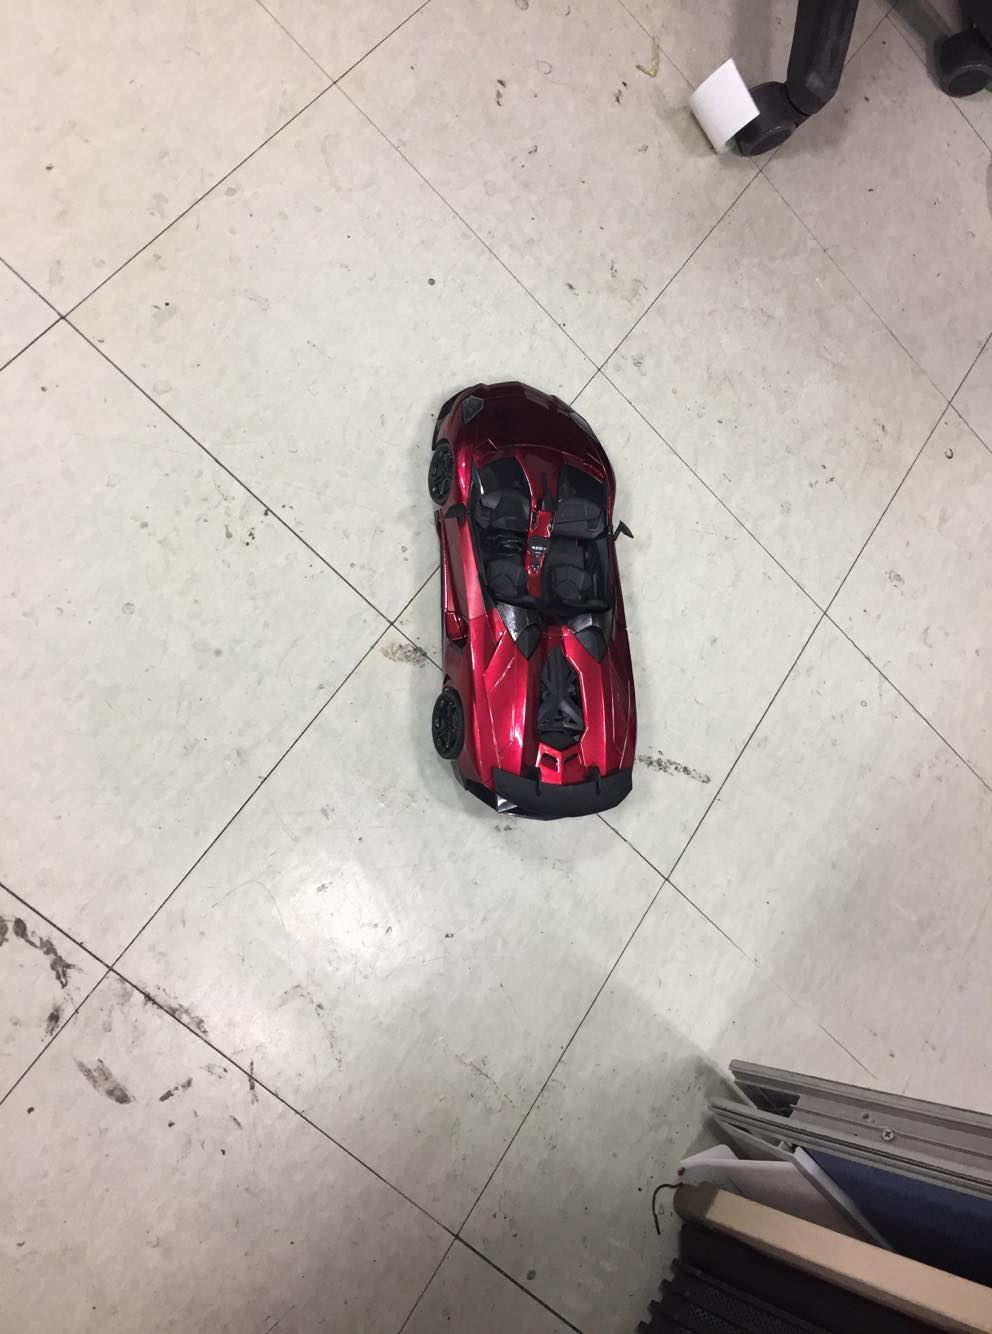car: (417, 379, 648, 819)
